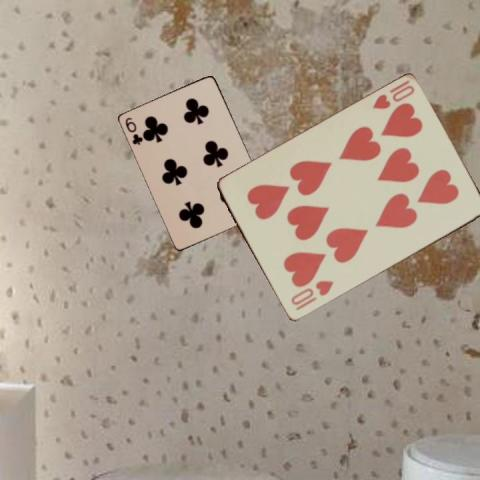10h: (287, 277, 336, 313), (369, 77, 416, 112)
6c: (123, 114, 144, 146)
